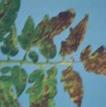Tomato Septoria leaf spot: (0, 0, 25, 54), (26, 66, 58, 107), (0, 65, 30, 107), (20, 15, 38, 59), (12, 64, 28, 99)
